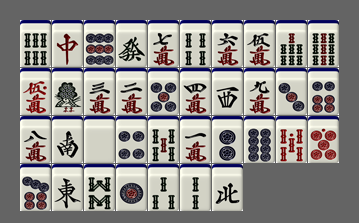0m: (20, 68, 51, 115)
0p: (308, 116, 339, 163)
0s: (276, 116, 307, 163)
1m: (180, 116, 211, 163)
1p: (116, 164, 147, 211)
1s: (52, 68, 83, 115)
1z: (52, 164, 83, 211)
2m: (116, 68, 147, 115)
2p: (212, 116, 243, 163)
2s: (180, 164, 211, 211)
2z: (52, 116, 83, 163)
3m: (84, 68, 115, 115)
3p: (276, 68, 307, 115)
3s: (148, 164, 179, 211)
3z: (212, 68, 243, 115)
4m: (180, 68, 211, 115)
4p: (116, 116, 147, 163)
4s: (180, 20, 211, 67)
4z: (212, 164, 243, 211)
5m: (244, 20, 275, 67)
5p: (148, 68, 179, 115)
5s: (148, 116, 179, 163)
5z: (84, 116, 115, 163)
6m: (212, 20, 243, 67)
6p: (308, 68, 339, 115)
6s: (20, 20, 51, 67)
6z: (116, 20, 147, 67)
7m: (148, 20, 179, 67)
7p: (20, 164, 51, 211)
7s: (276, 20, 307, 67)
7z: (52, 20, 83, 67)
8m: (20, 116, 51, 163)
8p: (244, 116, 275, 163)
8s: (84, 164, 115, 211)
9m: (244, 68, 275, 115)
9p: (84, 20, 115, 67)
9s: (308, 20, 339, 67)
